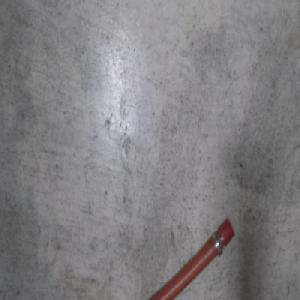Hose: (144, 217, 235, 300)
